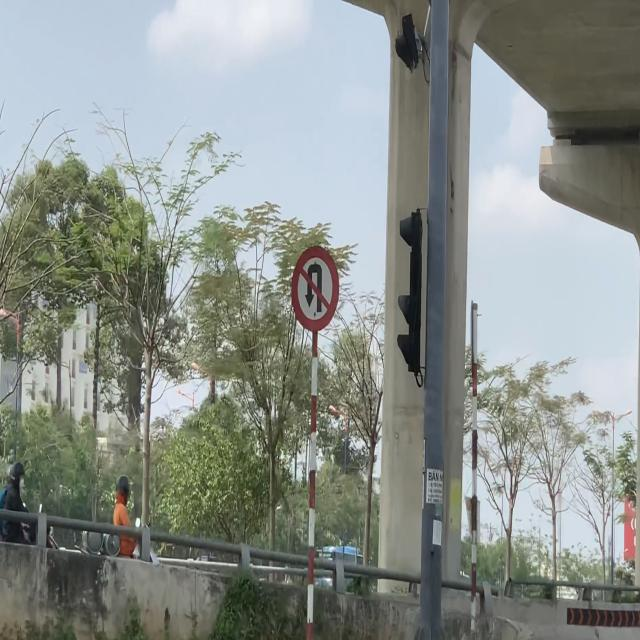Cam quay dau xe: (290, 243, 342, 334)
